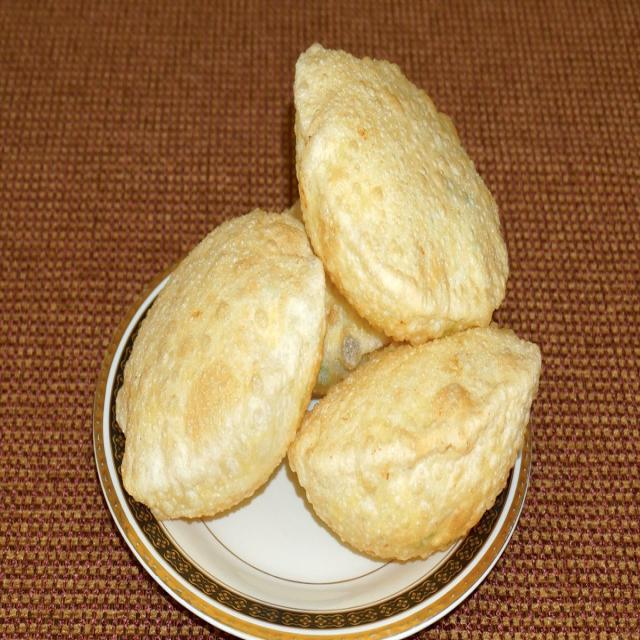puri: (122, 69, 534, 545)
